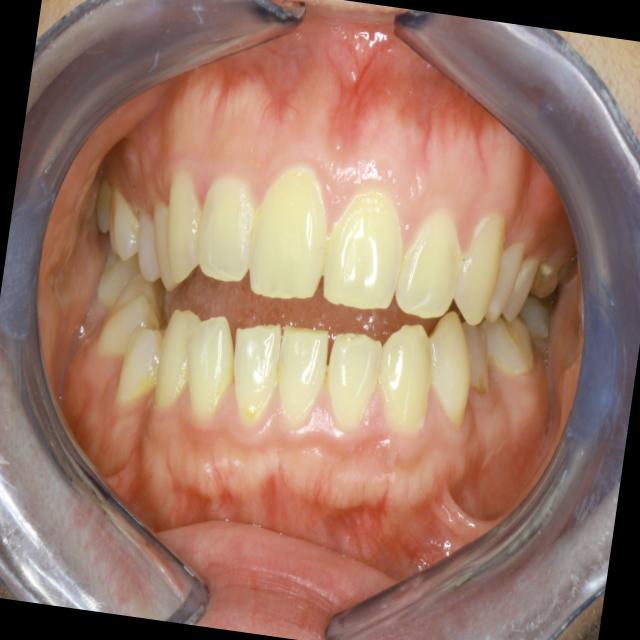tooth: (233, 143, 353, 317), (309, 171, 422, 328), (310, 314, 402, 452), (390, 184, 475, 328), (187, 159, 270, 303), (444, 190, 516, 337), (409, 303, 488, 436), (368, 316, 450, 444), (259, 311, 340, 438), (171, 309, 246, 443), (148, 154, 221, 290), (221, 307, 291, 442), (94, 266, 171, 374), (465, 300, 546, 394), (149, 297, 206, 422), (136, 188, 198, 299), (106, 317, 171, 417), (123, 195, 178, 295), (445, 309, 503, 403), (481, 226, 530, 335), (99, 178, 152, 268), (501, 232, 546, 331), (92, 234, 142, 309), (507, 282, 557, 346), (89, 173, 124, 246), (528, 248, 565, 307)
